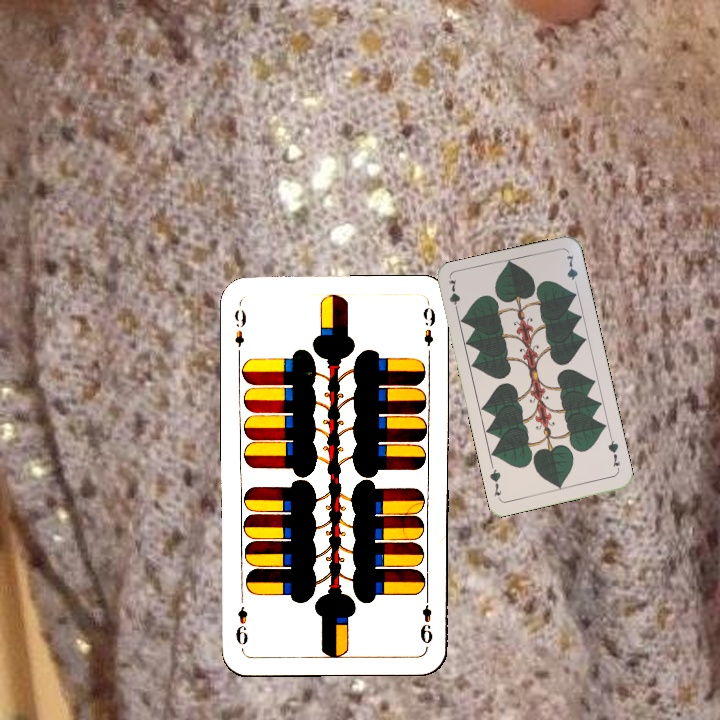E9: (417, 590, 436, 646), (230, 306, 248, 350)
G7: (444, 276, 463, 317), (604, 433, 623, 469)
